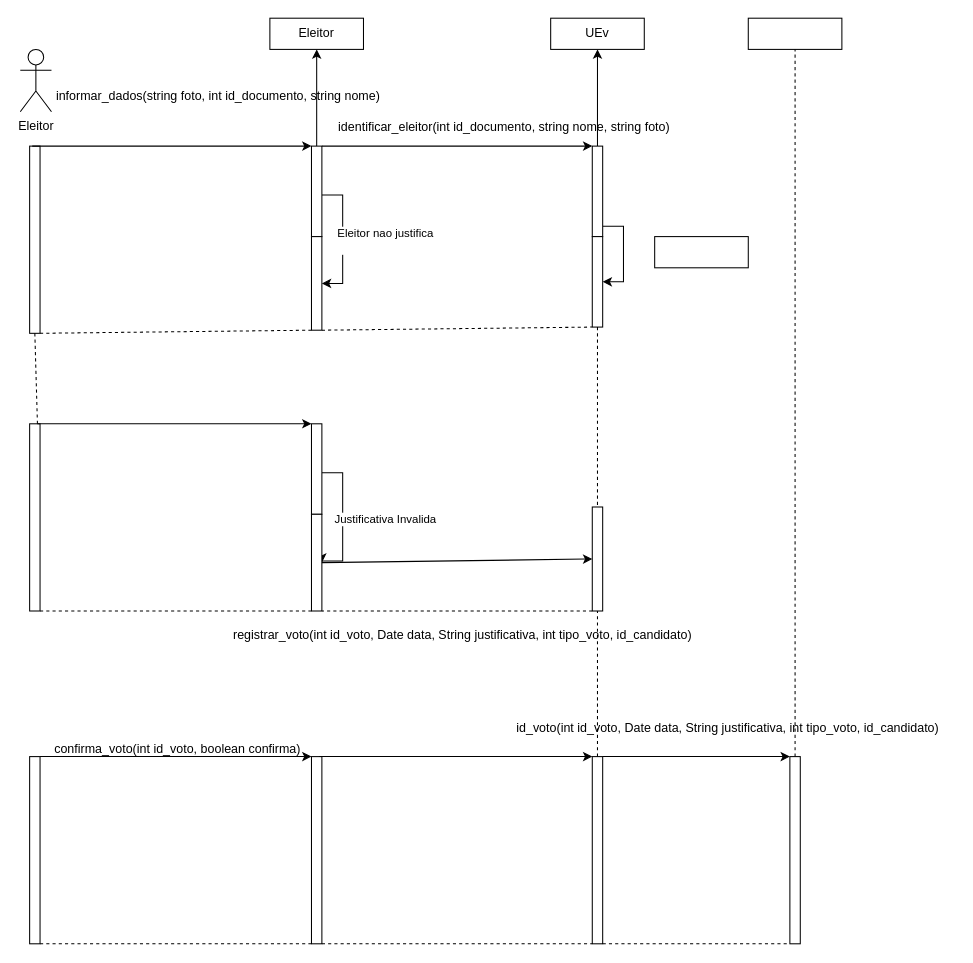
Some shapes in this 973 by 963 pixel diagram are drawn without their labels. Here are the shapes that lost their labels. From the top down, the centre of each, then its label:
(x=794, y=33): UEg
(x=701, y=252): Verificar informacoes
